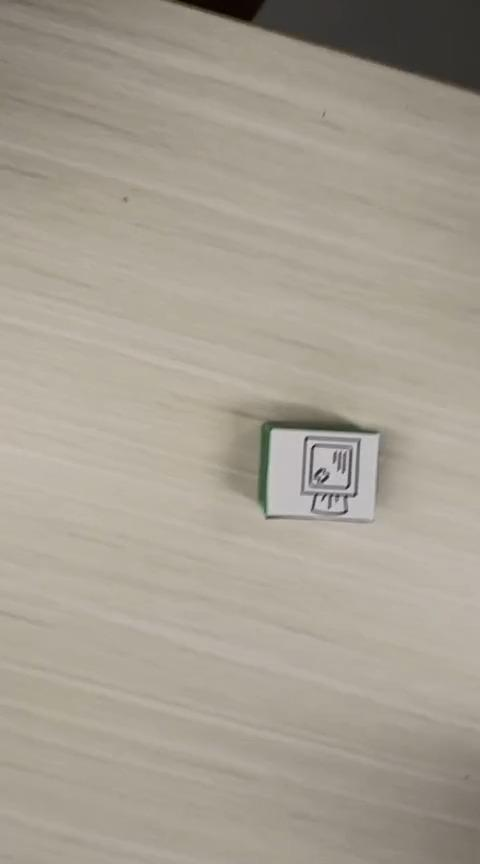Gauze: (257, 420, 381, 523)
